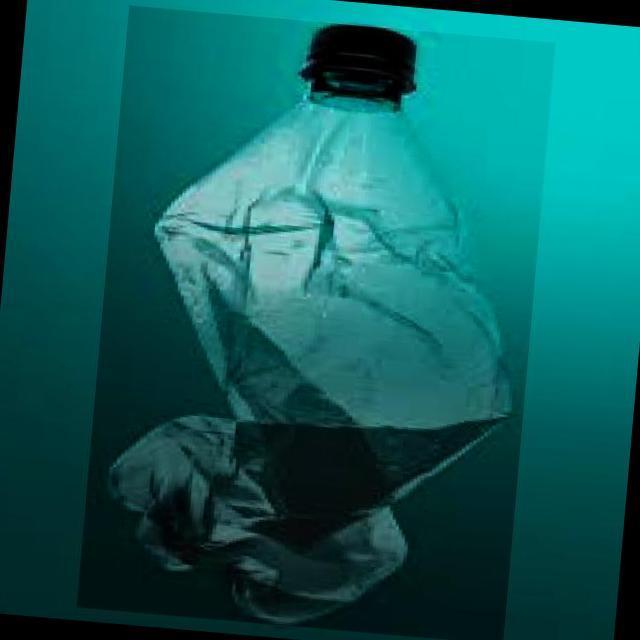defected: (75, 5, 554, 640)
